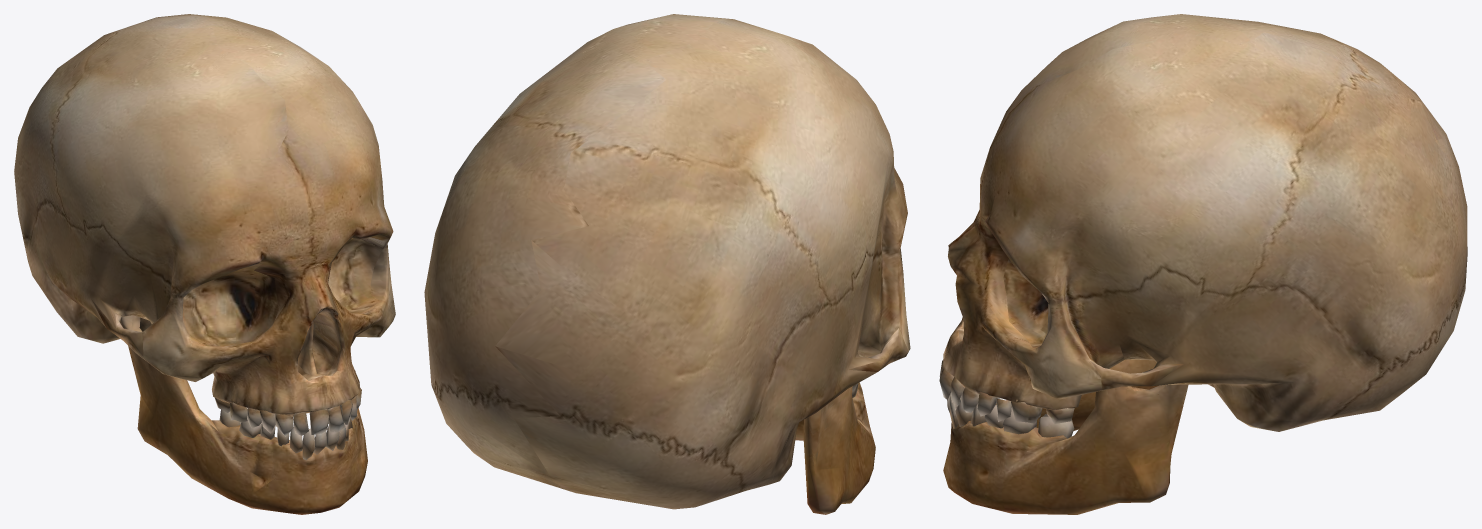
The picture shows the model from 3 angles, left to right: view 1: azimuth 30°, elevation 25°; view 2: azimuth 150°, elevation 25°; view 3: azimuth 270°, elevation 25°; orthographic projection. The views are drawn at different scales.
Parts seen in each view (by area): view 1: 12140_Skull_v3_teeth_lower; view 2: 12140_Skull_v3_teeth_lower; view 3: 12140_Skull_v3_teeth_lower.
Boxes of the visible parts, box(x1,y1,x2,y2) form: 12140_Skull_v3_teeth_lower: box(14, 14, 395, 514); 12140_Skull_v3_teeth_lower: box(424, 14, 910, 514); 12140_Skull_v3_teeth_lower: box(939, 14, 1467, 514).
Size of the model in its own units: 1.59 by 2.21 by 2.35.
Materials: 1 (1 with a texture image).
